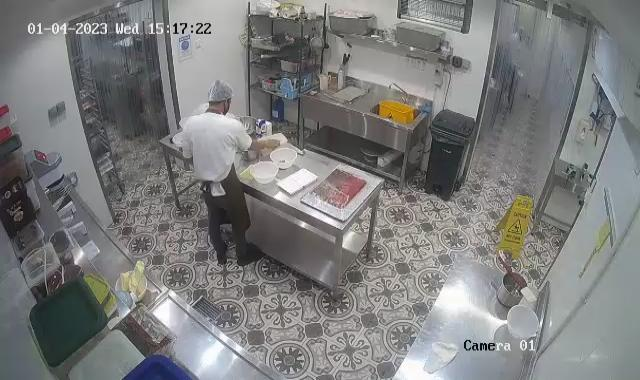hairnet: (208, 80, 234, 102)
